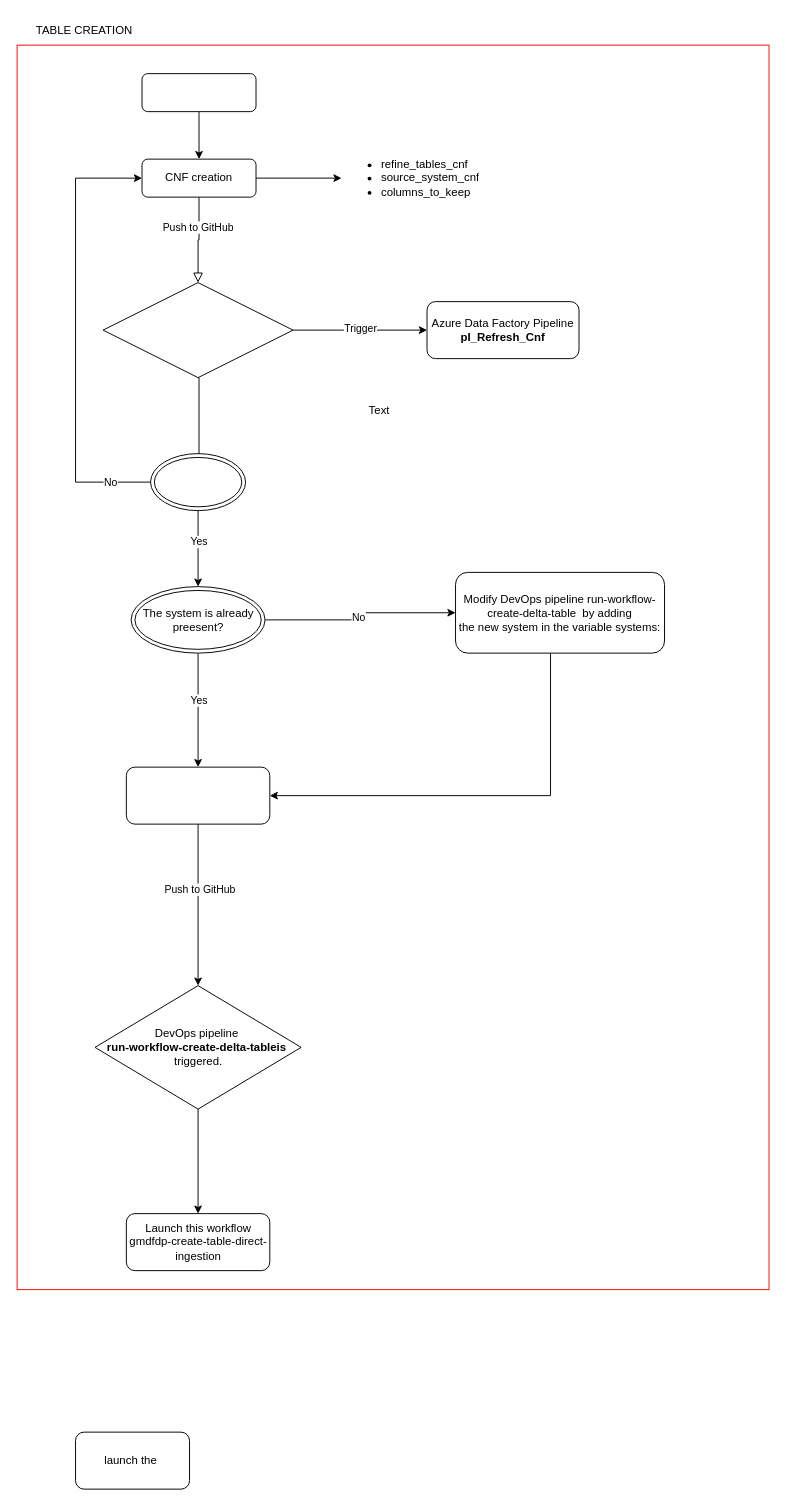
The diagram is 786 pixels wide and 1506 high, and some of its shapes have lost their labels. The centre of each missing label's shape, as x and y in pixels:
"Create json file for table you want to integrate" goes at pixel 197 795.
"DevOps pipeline refresh-cnf-tables is triggered." goes at pixel 197 330.
"Secret creation" goes at pixel 198 92.
"SUCCESS?" goes at pixel 198 482.
